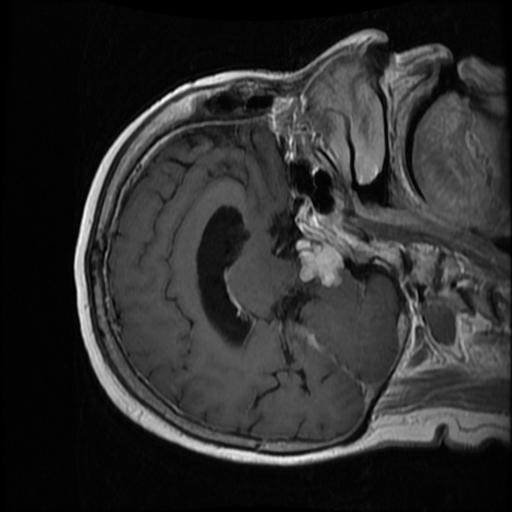meningioma: (293, 237, 345, 287)
